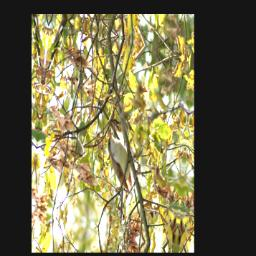Cuckoo: (100, 124, 137, 202)
